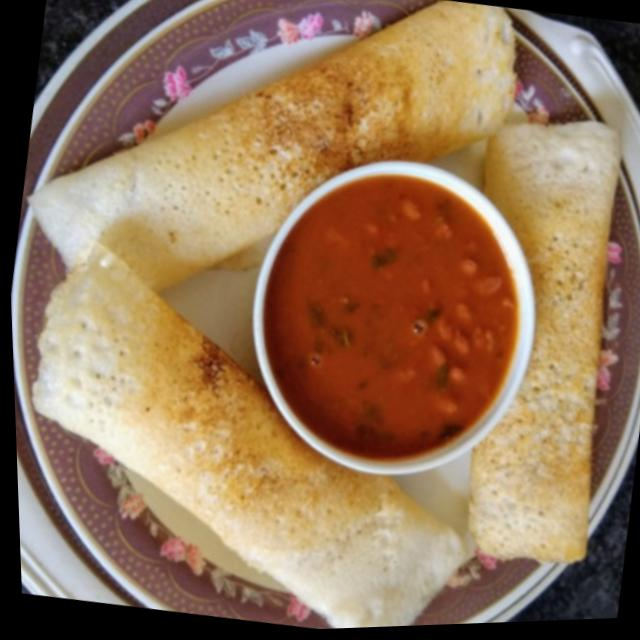DOSA: (33, 0, 620, 628)
SAMBAR: (266, 177, 515, 457)
